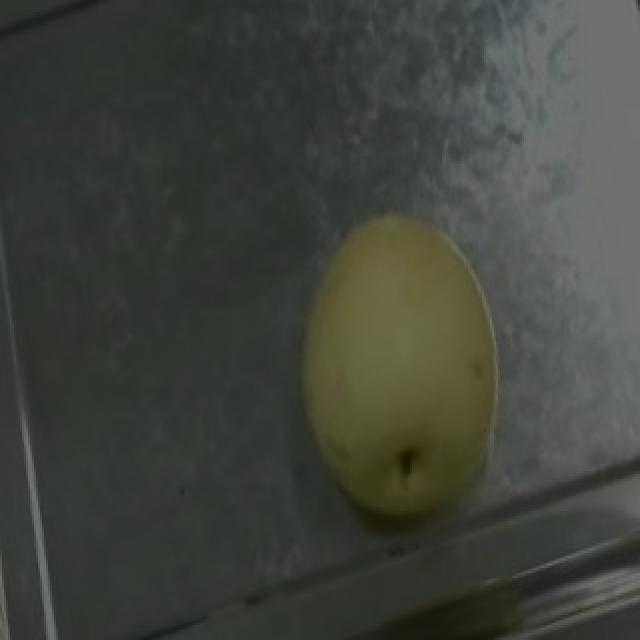Fruit: (262, 181, 550, 563)
